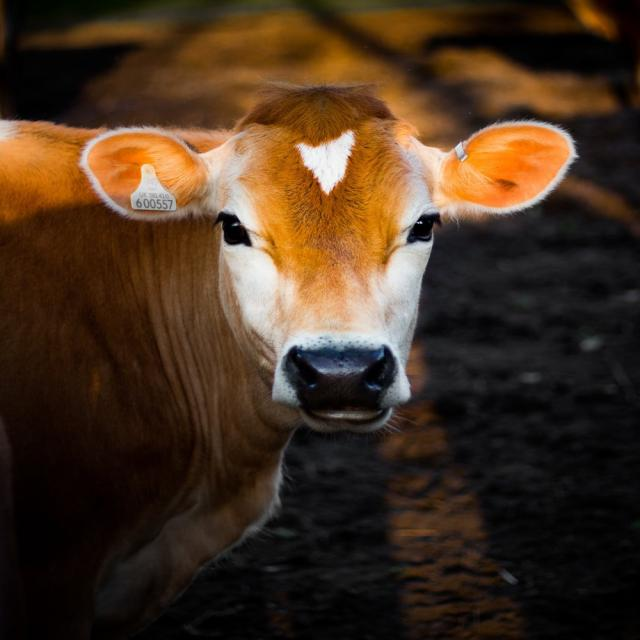cow: (131, 104, 495, 445)
